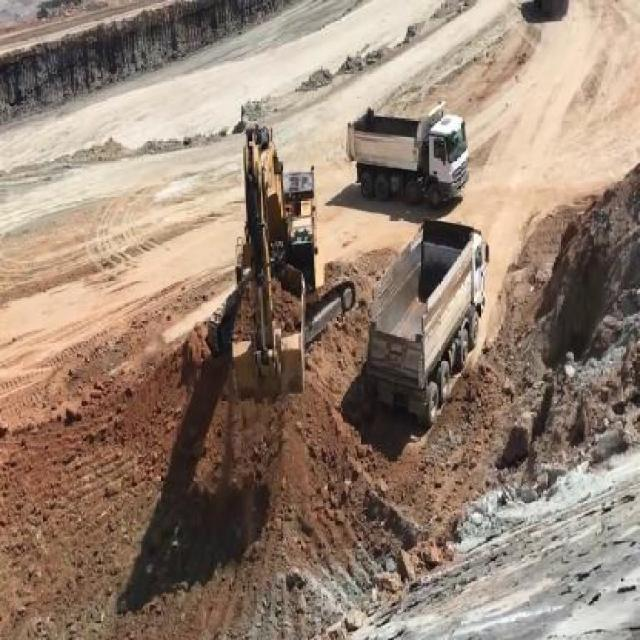Dump Truck: (364, 217, 491, 428), (344, 102, 470, 209)
Excavator: (210, 121, 355, 427)
